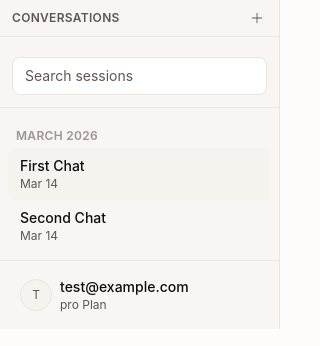
Test: SessionSidebar › shows context menu button on session hover
The image size is (320, 346).
# The "..." / more button should appear on the session items
Hover over the element with test id "session-item-session-1" at [140, 174], box top-left (8, 148), bottom-right (271, 200)
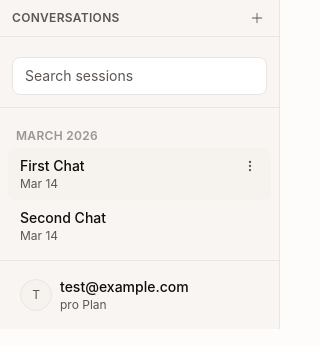
Now the button with test id "session-menu-trigger" is shown, box top-left (241, 157), bottom-right (259, 175)
